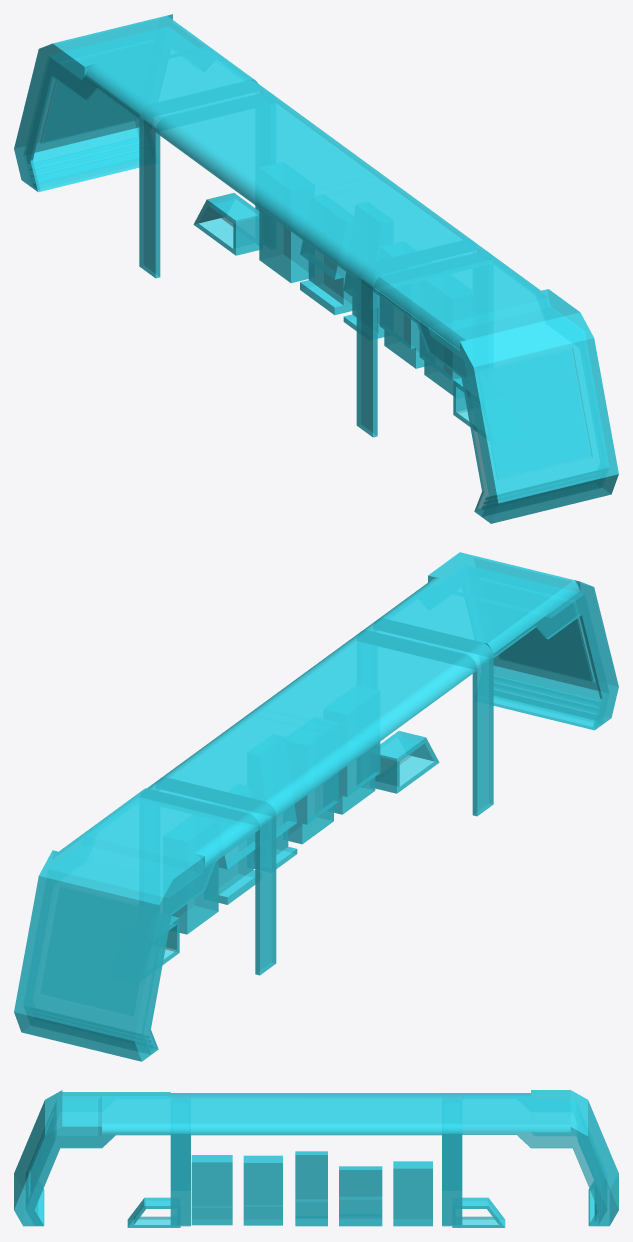
File: 公交车.obj
3 views of the same model, one above another, from view 1: azimuth 30°, elevation 25°; view 2: azimuth 150°, elevation 25°; view 3: azimuth 270°, elevation 25° (orthographic). The views are drawn at different scales.
Parts seen in each view (by area): view 1: Mesh4 __4_2 Group1 Model, Mesh1 ___6_1 Group1 Model, Mesh3 __4_1 Group1 Model, Mesh5 G_1_2_1 Group1 Model, Mesh6 G_1_2_2 Group1 Model, Mesh2 ___7_1 Group1 Model, Mesh10 Group1 Model, Mesh8 ___5_1 Group1 Model, Mesh11 Group1 Model, Mesh12 Group1 Model, Mesh7 ___7_2 Group1 Model, Mesh9 ___8_1 Group1 Model; view 2: Mesh3 __4_1 Group1 Model, Mesh1 ___6_1 Group1 Model, Mesh4 __4_2 Group1 Model, Mesh6 G_1_2_2 Group1 Model, Mesh5 G_1_2_1 Group1 Model, Mesh7 ___7_2 Group1 Model, Mesh11 Group1 Model, Mesh12 Group1 Model, Mesh8 ___5_1 Group1 Model, Mesh10 Group1 Model, Mesh9 ___8_1 Group1 Model; view 3: Mesh1 ___6_1 Group1 Model, Mesh4 __4_2 Group1 Model, Mesh3 __4_1 Group1 Model, Mesh12 Group1 Model, Mesh11 Group1 Model, Mesh5 G_1_2_1 Group1 Model, Mesh6 G_1_2_2 Group1 Model, Mesh8 ___5_1 Group1 Model, Mesh10 Group1 Model, Mesh9 ___8_1 Group1 Model, Mesh2 ___7_1 Group1 Model, Mesh7 ___7_2 Group1 Model.
Part boxes in pixels (left/top/right/bottom): Mesh4 __4_2 Group1 Model: left=373, top=251, right=618, bottom=523; Mesh1 ___6_1 Group1 Model: left=155, top=92, right=476, bottom=279; Mesh3 __4_1 Group1 Model: left=14, top=14, right=259, bottom=192; Mesh5 G_1_2_1 Group1 Model: left=139, top=80, right=275, bottom=278; Mesh6 G_1_2_2 Group1 Model: left=356, top=239, right=492, bottom=437; Mesh2 ___7_1 Group1 Model: left=193, top=193, right=259, bottom=255; Mesh10 Group1 Model: left=259, top=209, right=308, bottom=283; Mesh8 ___5_1 Group1 Model: left=300, top=240, right=352, bottom=315; Mesh11 Group1 Model: left=379, top=292, right=424, bottom=368; Mesh12 Group1 Model: left=419, top=321, right=466, bottom=395; Mesh7 ___7_2 Group1 Model: left=453, top=377, right=476, bottom=431; Mesh9 ___8_1 Group1 Model: left=343, top=272, right=384, bottom=338; Mesh3 __4_1 Group1 Model: left=14, top=788, right=259, bottom=1061; Mesh1 ___6_1 Group1 Model: left=156, top=630, right=477, bottom=817; Mesh4 __4_2 Group1 Model: left=373, top=552, right=618, bottom=730; Mesh6 G_1_2_2 Group1 Model: left=357, top=618, right=493, bottom=816; Mesh5 G_1_2_1 Group1 Model: left=140, top=777, right=276, bottom=975; Mesh7 ___7_2 Group1 Model: left=375, top=731, right=439, bottom=793; Mesh11 Group1 Model: left=288, top=772, right=338, bottom=844; Mesh12 Group1 Model: left=334, top=742, right=380, bottom=814; Mesh8 ___5_1 Group1 Model: left=218, top=833, right=255, bottom=904; Mesh10 Group1 Model: left=171, top=860, right=218, bottom=934; Mesh9 ___8_1 Group1 Model: left=253, top=804, right=297, bottom=868; Mesh1 ___6_1 Group1 Model: left=191, top=1093, right=441, bottom=1135; Mesh4 __4_2 Group1 Model: left=14, top=1090, right=170, bottom=1226; Mesh3 __4_1 Group1 Model: left=462, top=1090, right=618, bottom=1226; Mesh12 Group1 Model: left=191, top=1155, right=232, bottom=1225; Mesh11 Group1 Model: left=243, top=1155, right=282, bottom=1225; Mesh5 G_1_2_1 Group1 Model: left=442, top=1093, right=462, bottom=1226; Mesh6 G_1_2_2 Group1 Model: left=170, top=1093, right=190, bottom=1226; Mesh8 ___5_1 Group1 Model: left=339, top=1166, right=382, bottom=1226; Mesh10 Group1 Model: left=393, top=1161, right=432, bottom=1226; Mesh9 ___8_1 Group1 Model: left=295, top=1151, right=327, bottom=1226; Mesh2 ___7_1 Group1 Model: left=452, top=1197, right=505, bottom=1227; Mesh7 ___7_2 Group1 Model: left=127, top=1197, right=180, bottom=1227.
Bounding box in the file's own units: 150 × 196 × 1044.
